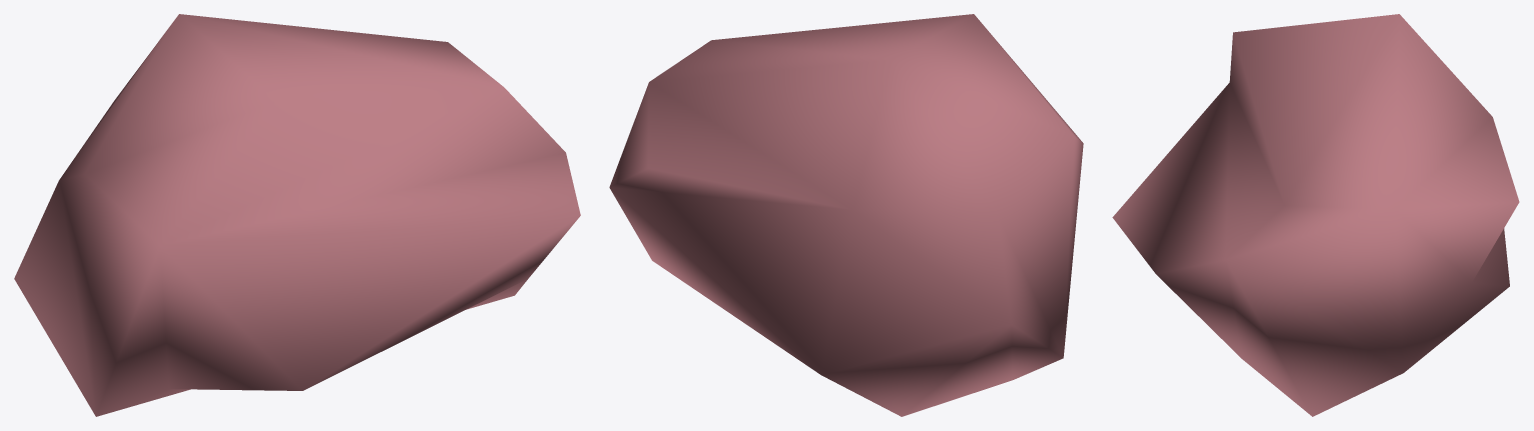
3 renders of one model, left to right at view 1: azimuth 30°, elevation 25°; view 2: azimuth 150°, elevation 25°; view 3: azimuth 270°, elevation 25°, orthographic. The views are drawn at different scales.
Size of the model in its own units: 0.1501 by 0.1158 by 0.1368.
